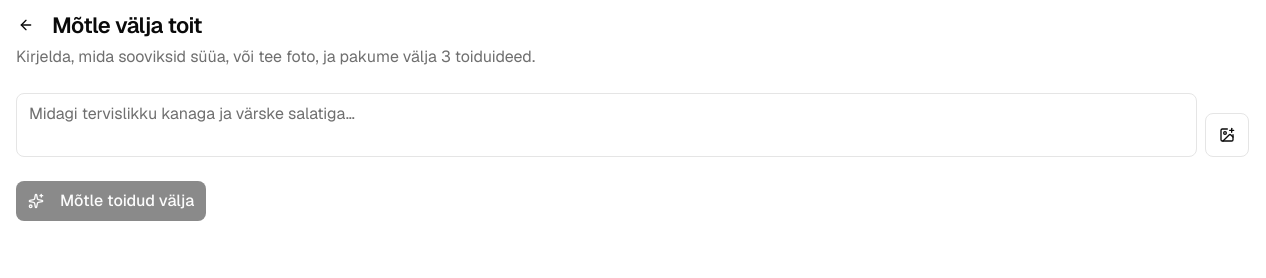
Test: ImagineClient error localization › falls back to the generic translated message for an unrecognised code
Type "something with lentils" into the text box at (606, 125), box [16,93,1197,157]
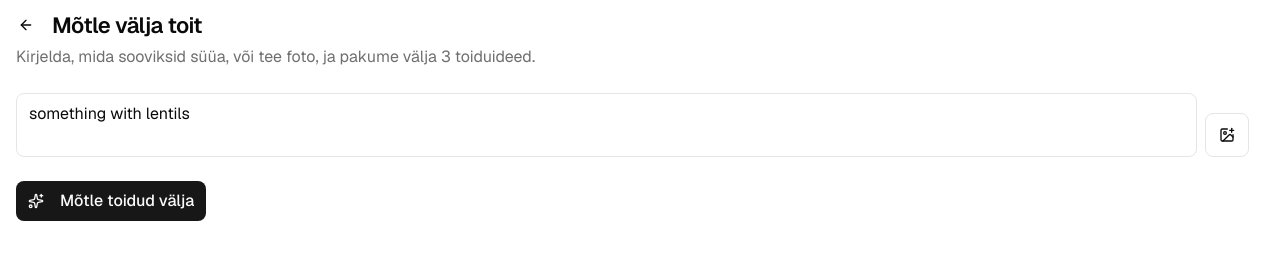
Click the button "Mõtle toidud välja" at (111, 201), box [16,181,206,221]
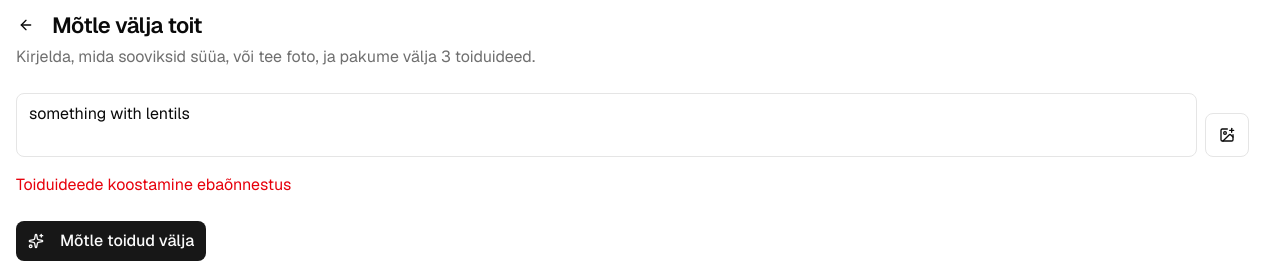
Expected: the text "Toiduideede koostamine ebaõnnestus" is shown, [16,174,291,195]
